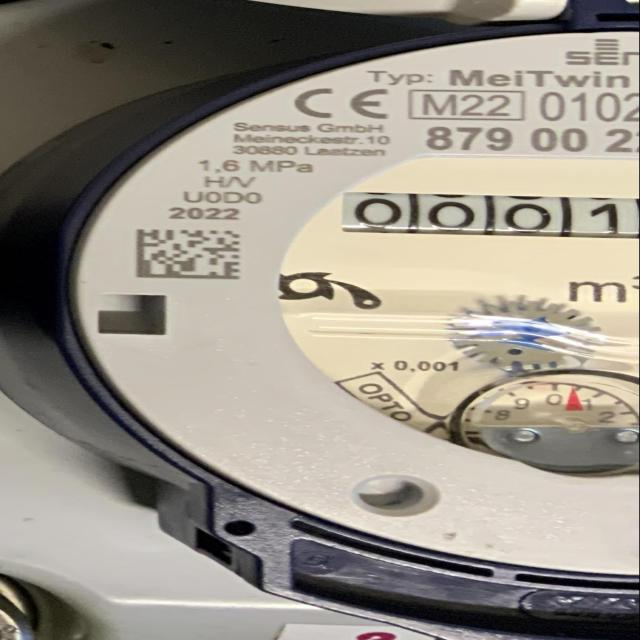gaz_meter: (64, 35, 640, 587)
indication: (342, 187, 637, 240)
